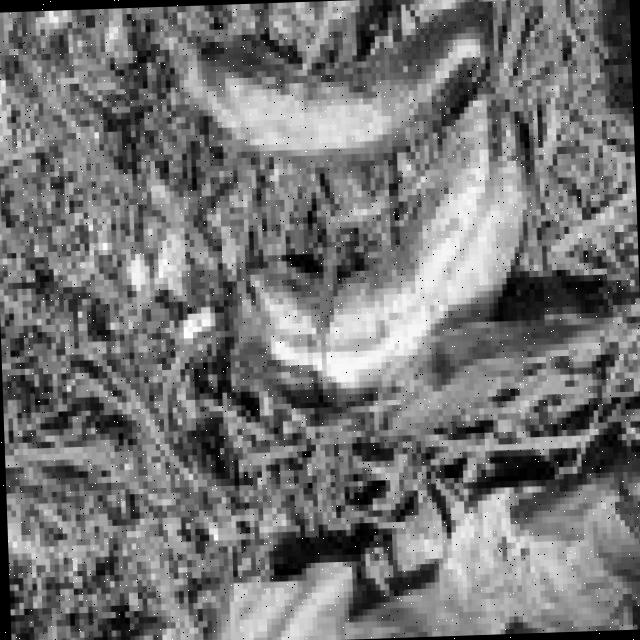Bad_Banana-0 day: (186, 0, 490, 165)
